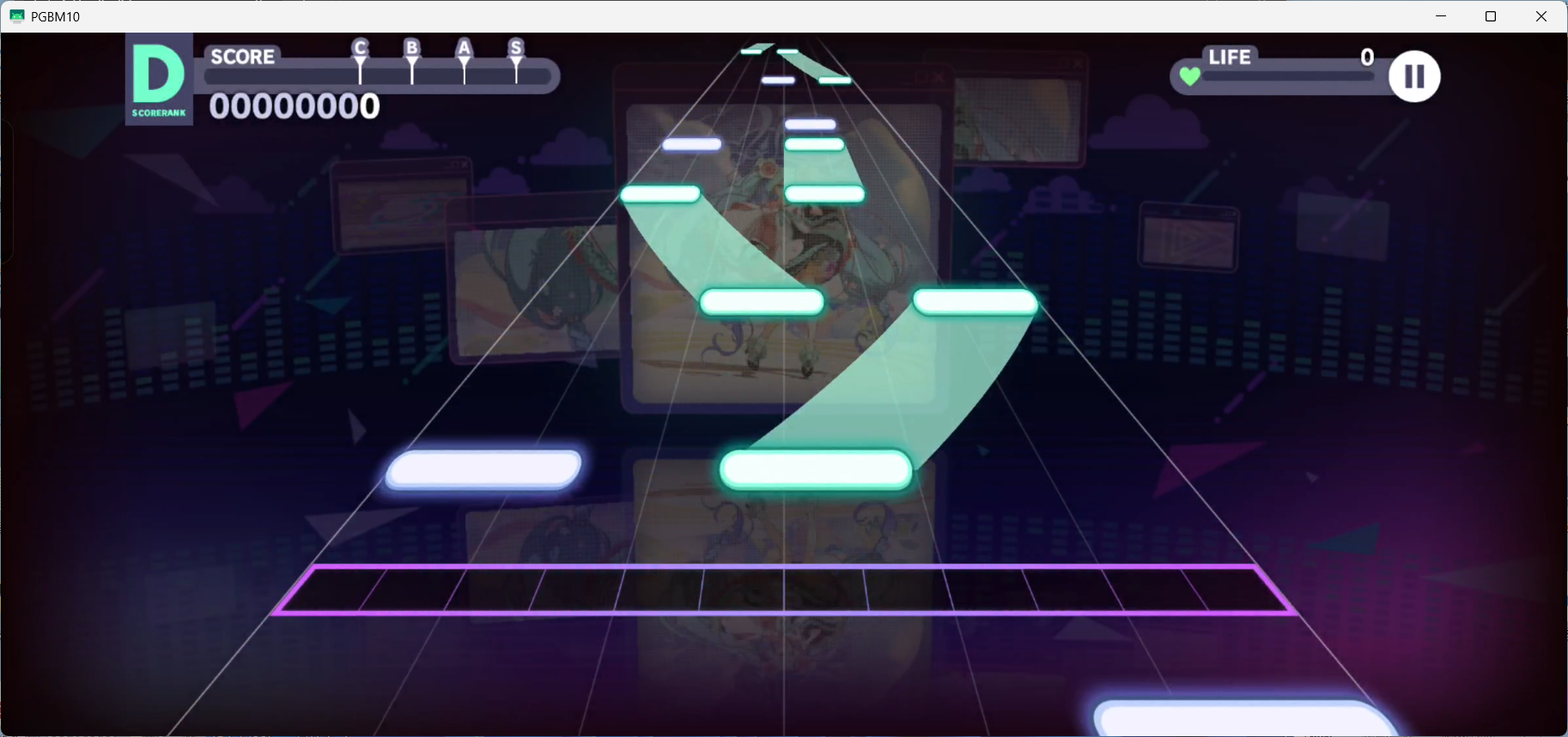hold: (746, 317, 1035, 451), (621, 203, 806, 288), (784, 154, 862, 184), (781, 56, 843, 76), (744, 43, 773, 49)
tap: (1094, 699, 1401, 737), (719, 447, 914, 493), (383, 446, 584, 490), (698, 287, 824, 315), (913, 289, 1038, 317), (620, 184, 700, 203), (785, 184, 864, 202), (661, 137, 721, 151), (784, 138, 844, 152), (785, 118, 836, 130), (760, 76, 795, 84), (819, 76, 852, 84), (739, 49, 763, 55), (777, 49, 799, 54)
